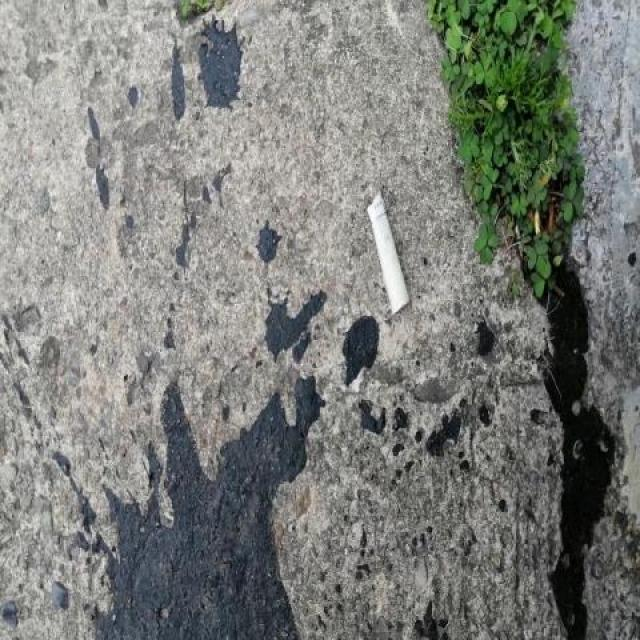non-organic waste: (361, 181, 414, 318)
